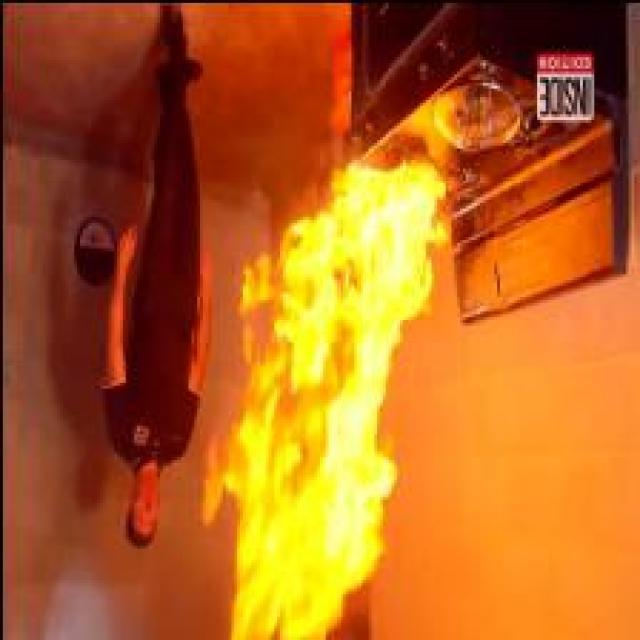Fire: (206, 161, 443, 640)
